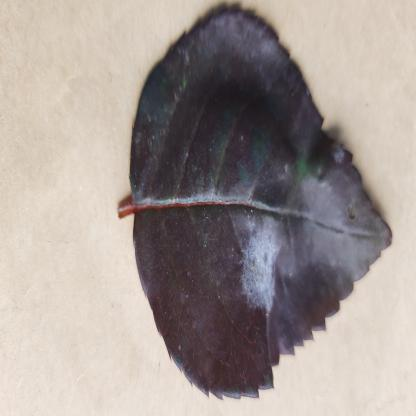powdery-mildew: (123, 7, 391, 395)
